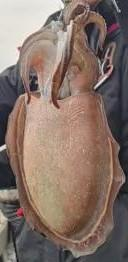Cephalopod: (6, 0, 124, 256)
